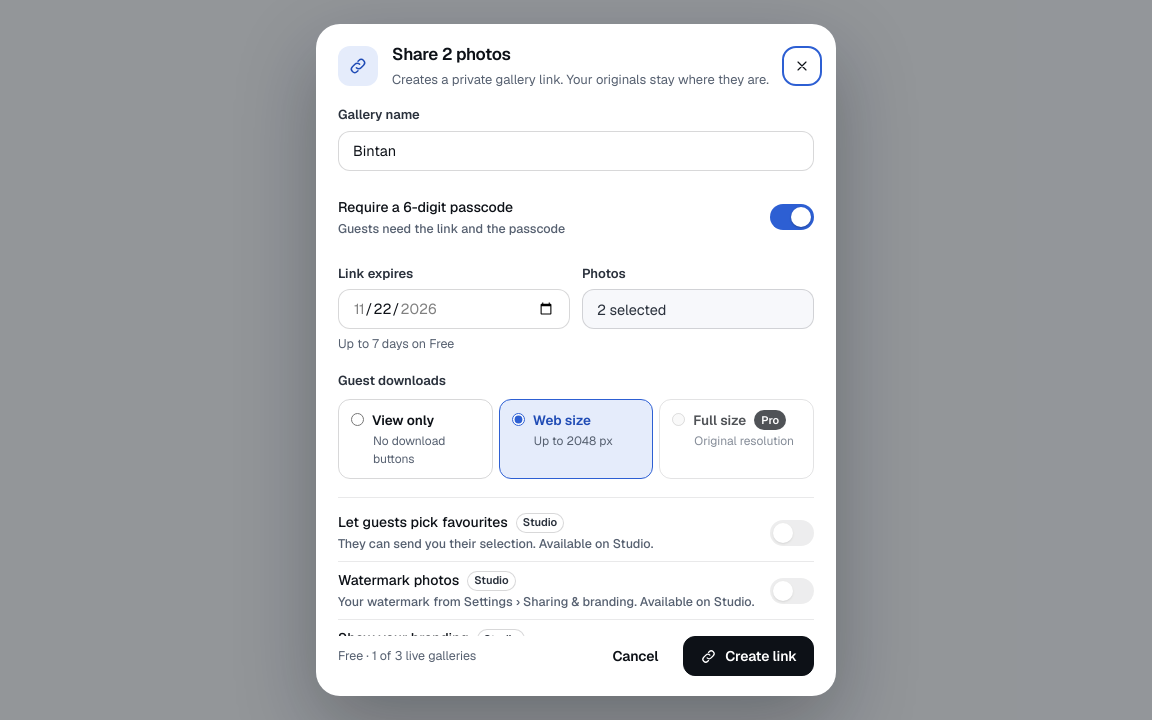
Test: create gallery dialog › warns when the passcode is turned off, and sends passcode: false
Later steps or results of the test are not shown.
expect the text "anyone who gets the link" is not shown: met
Click the switch labelled "Require a 6-digit passcode": (792, 217) [770,204,814,230]
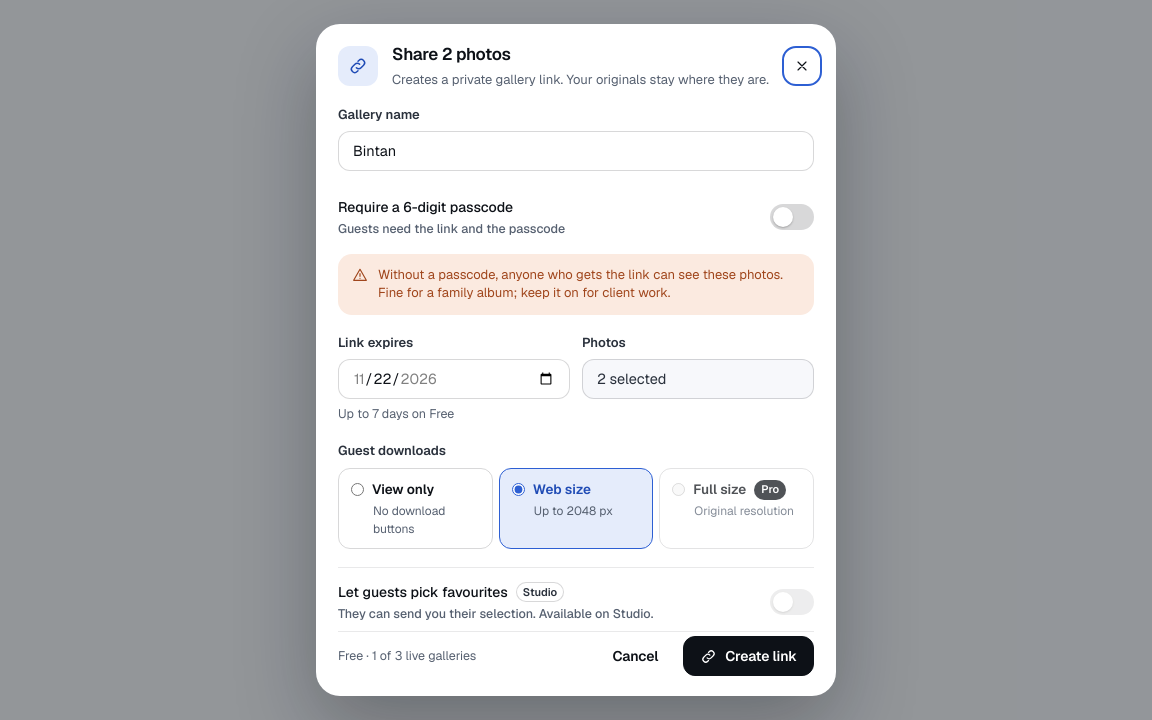
expect the text "anyone who gets the link can see these photos" is shown: met, box [378,266,783,301]
